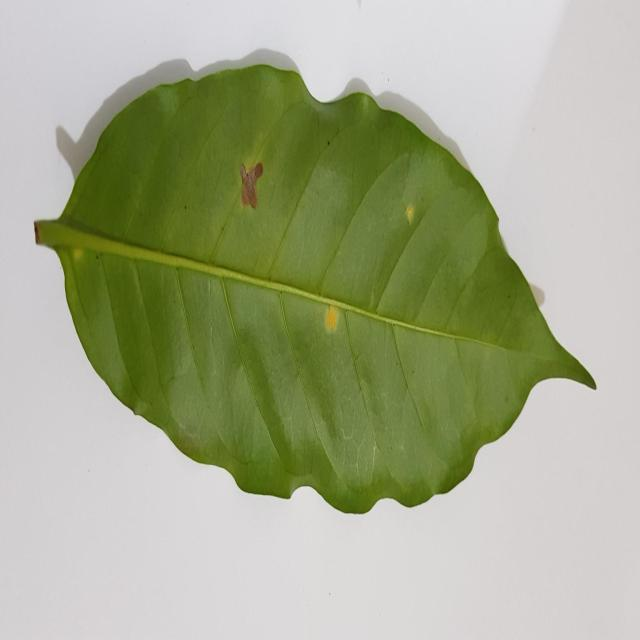miner: (240, 162, 263, 208)
rust: (324, 303, 339, 331), (405, 201, 417, 224)
